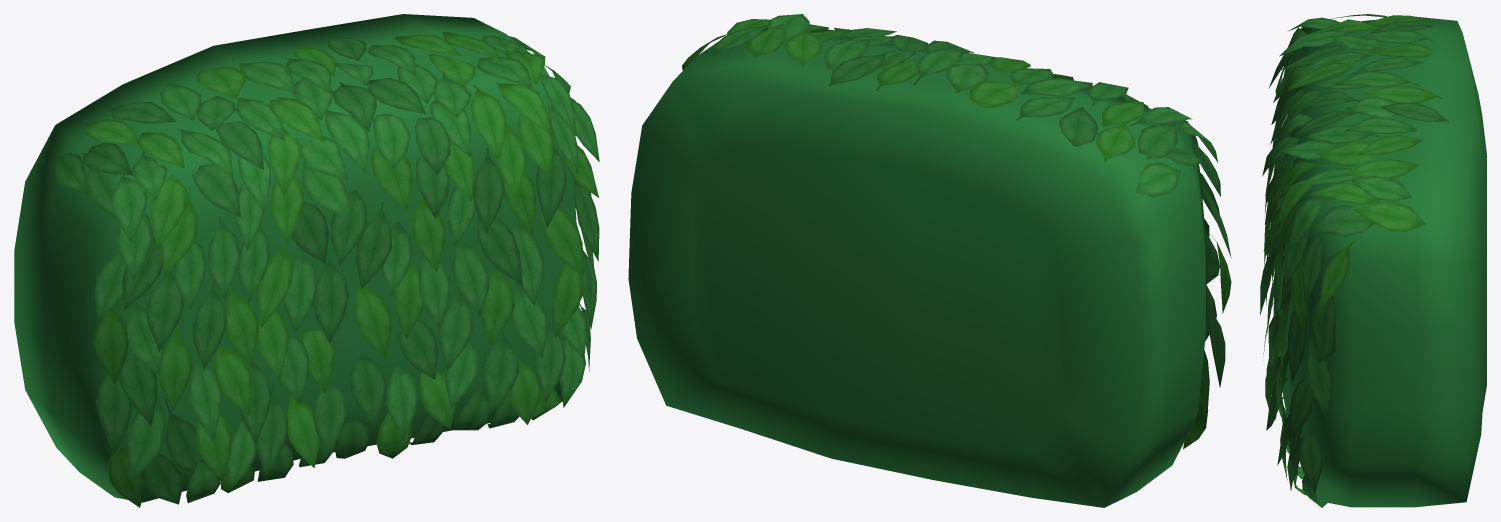
File: ArbustoPequeno.fbx
3 renders of one model, left to right at view 1: azimuth 30°, elevation 25°; view 2: azimuth 150°, elevation 25°; view 3: azimuth 270°, elevation 25°, orthographic. The views are drawn at different scales.
Visible parts, largest first — view 1: ArbustoPequeno; view 2: ArbustoPequeno; view 3: ArbustoPequeno.
Boxes of the visible parts, left/top/right/bottom form: ArbustoPequeno: left=14, top=14, right=599, bottom=507; ArbustoPequeno: left=628, top=14, right=1231, bottom=507; ArbustoPequeno: left=1260, top=14, right=1486, bottom=507.
Bounding box in the file's own units: 1738 × 1201 × 736.
